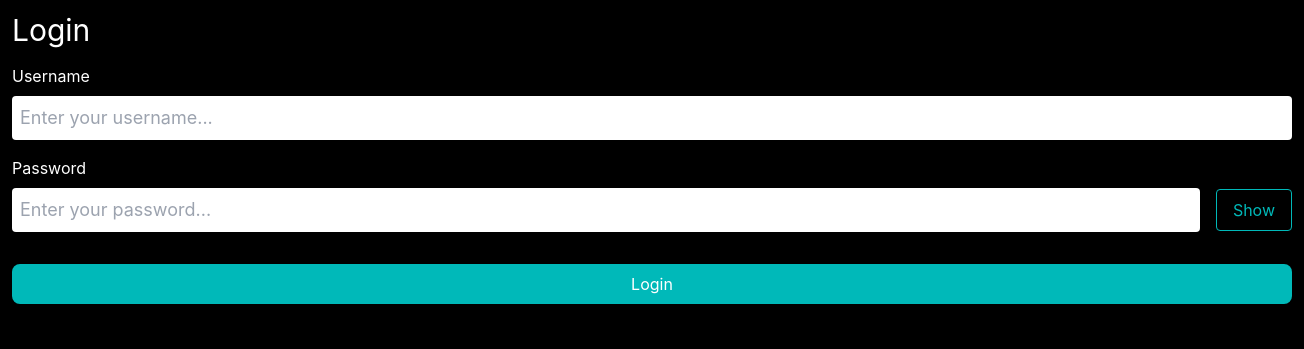
Login › should show password required if username but no password provided
Type "incard" into the field labelled "Username" at (652, 118), box [12,96,1292,140]
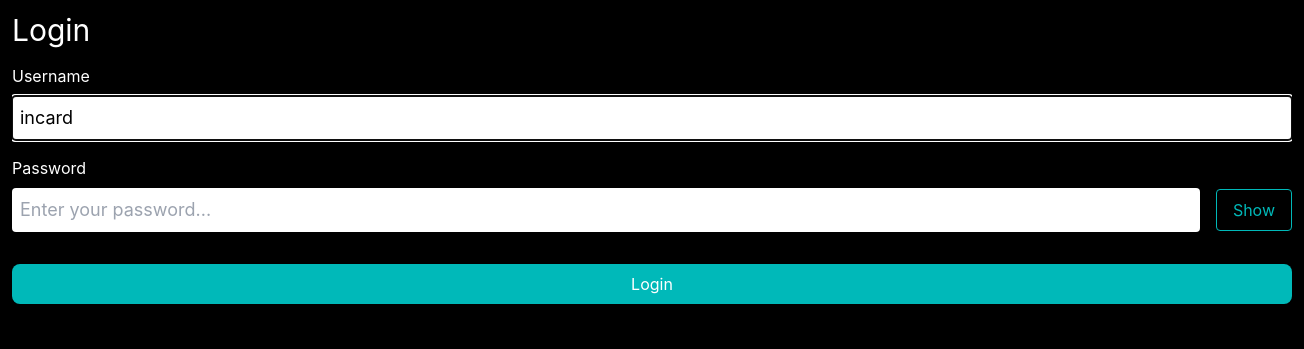
Click the button "Login" at (652, 284), box [12,264,1292,304]
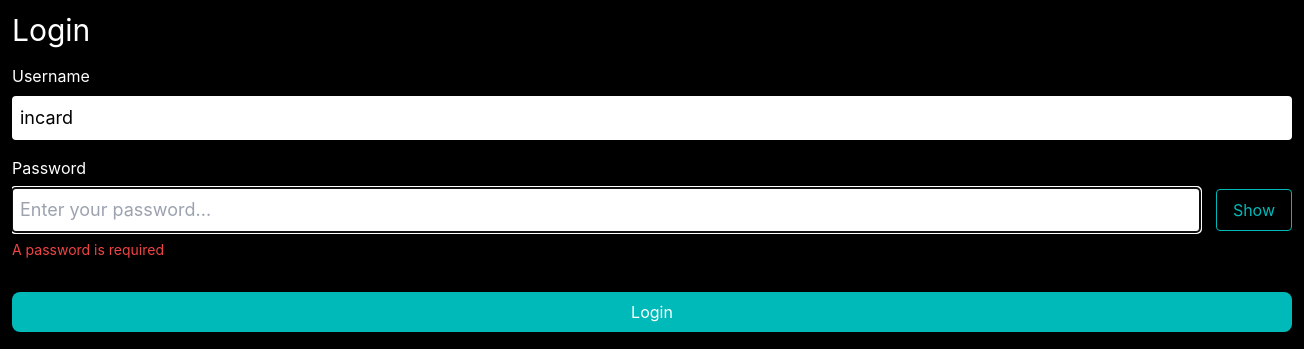
Result: the text "A password is required" is shown at [12,241,164,258]
